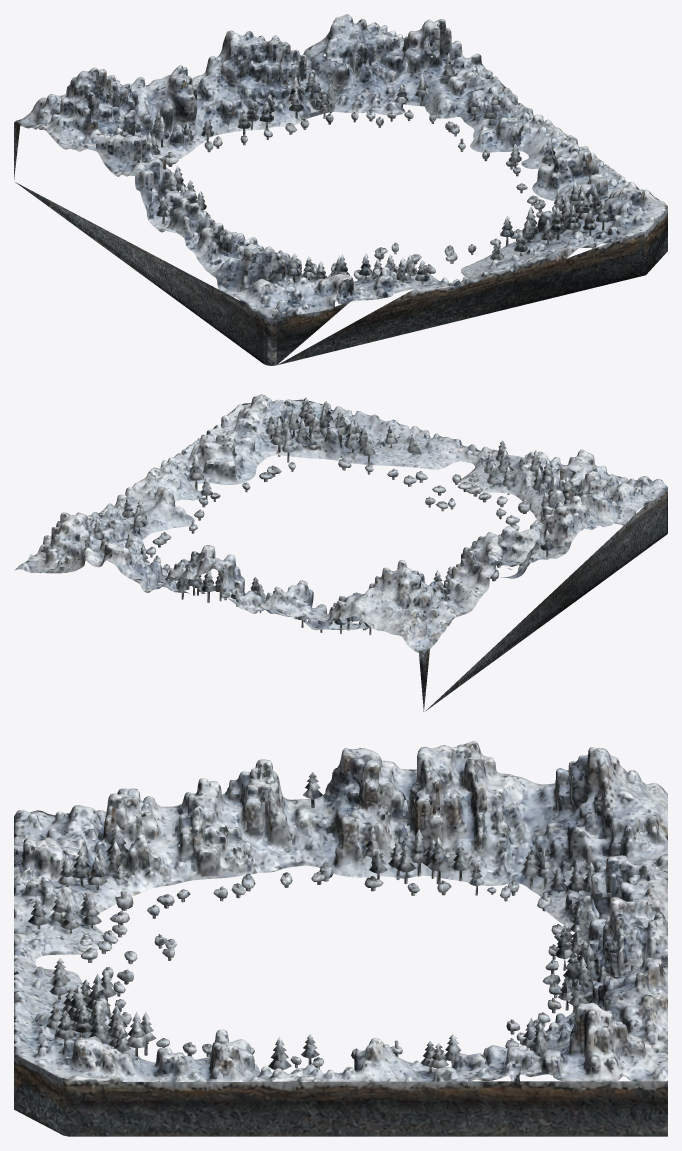
The model's file is terrain-4k.glb.
3 renders of one model, top to bottom at view 1: azimuth 30°, elevation 25°; view 2: azimuth 150°, elevation 25°; view 3: azimuth 270°, elevation 25°, orthographic. The views are drawn at different scales.
Visible parts, largest first — view 1: tripo_4b29efe8_25c8_4cf4_9b1e_281fd3773b47; view 2: tripo_4b29efe8_25c8_4cf4_9b1e_281fd3773b47; view 3: tripo_4b29efe8_25c8_4cf4_9b1e_281fd3773b47.
Part boxes in pixels (bbox=[...]): tripo_4b29efe8_25c8_4cf4_9b1e_281fd3773b47: bbox=[14, 14, 667, 365]; tripo_4b29efe8_25c8_4cf4_9b1e_281fd3773b47: bbox=[14, 394, 667, 711]; tripo_4b29efe8_25c8_4cf4_9b1e_281fd3773b47: bbox=[14, 741, 667, 1136].
Size of the model in its own units: 0.9556 by 0.2652 by 0.9995.
1 material, 1 textured.
